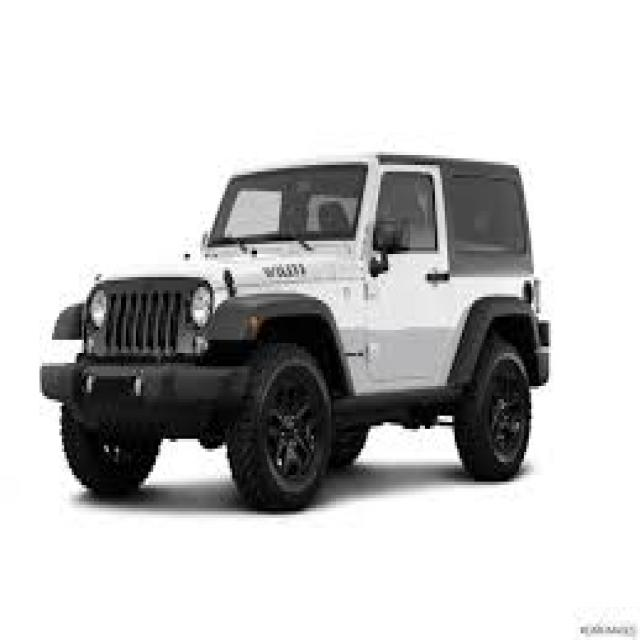Car: (32, 146, 549, 543)
